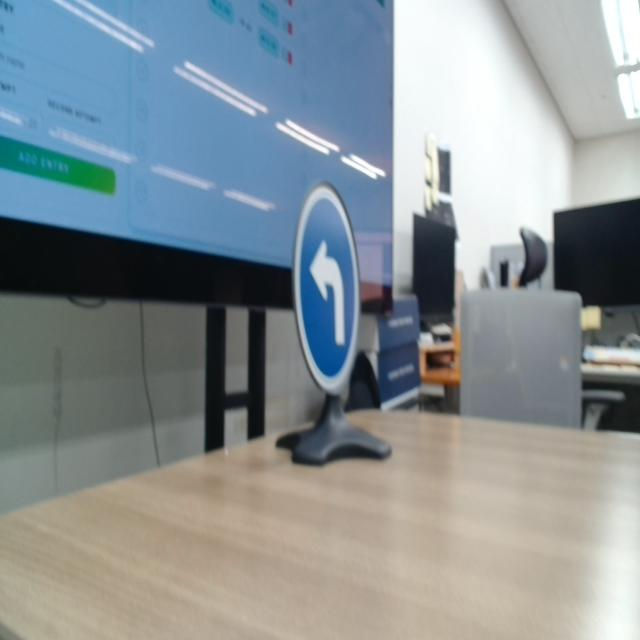left_direction: (292, 181, 366, 400)
